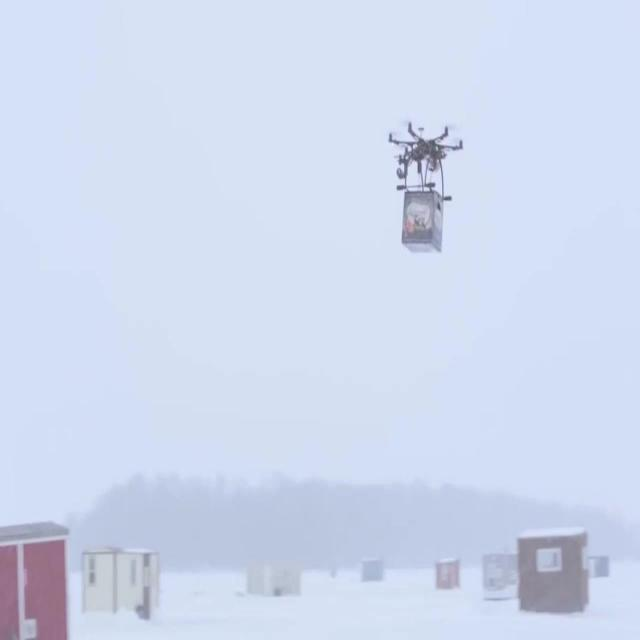UAV: (388, 121, 463, 201)
